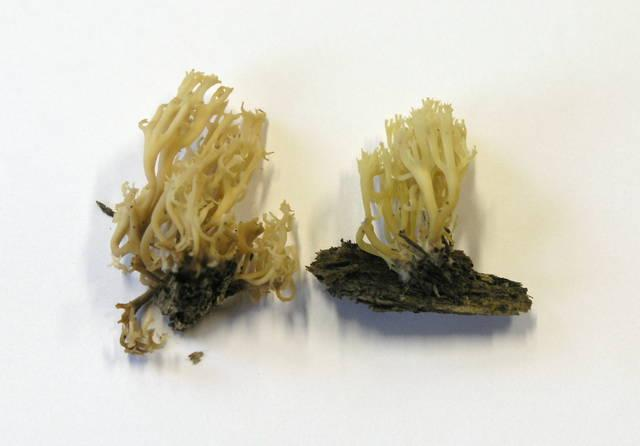edible_mushroom: (95, 67, 299, 358), (354, 96, 478, 281)
